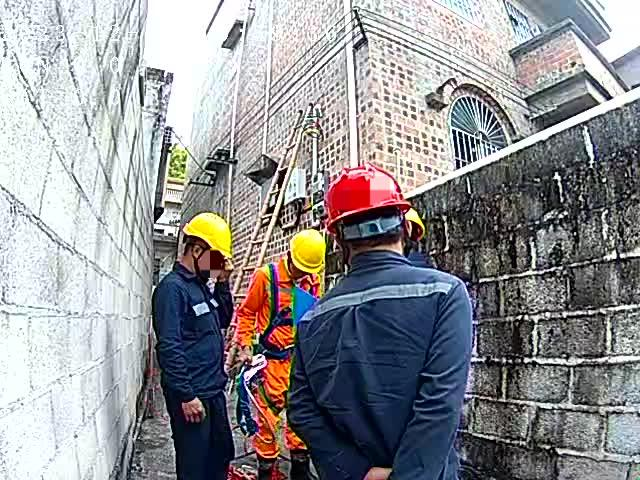halt: (324, 166, 411, 261), (181, 214, 236, 281), (290, 232, 329, 286), (404, 212, 429, 247)
inear: (190, 242, 211, 270)
